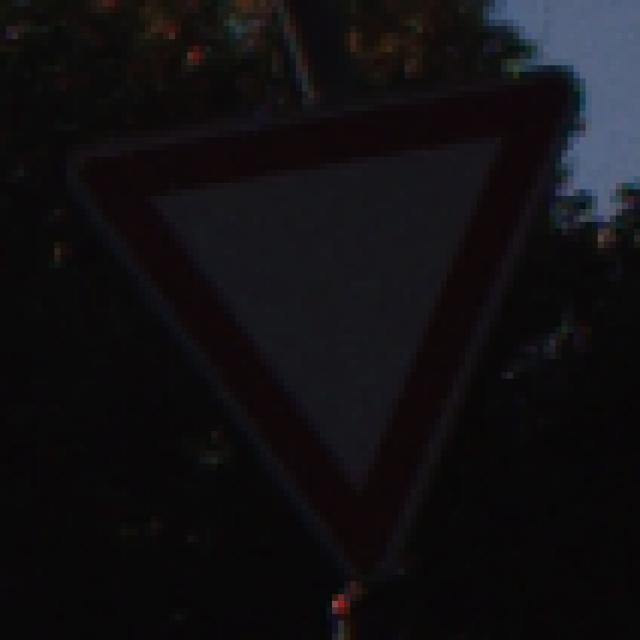Give Way: (55, 53, 581, 582)
